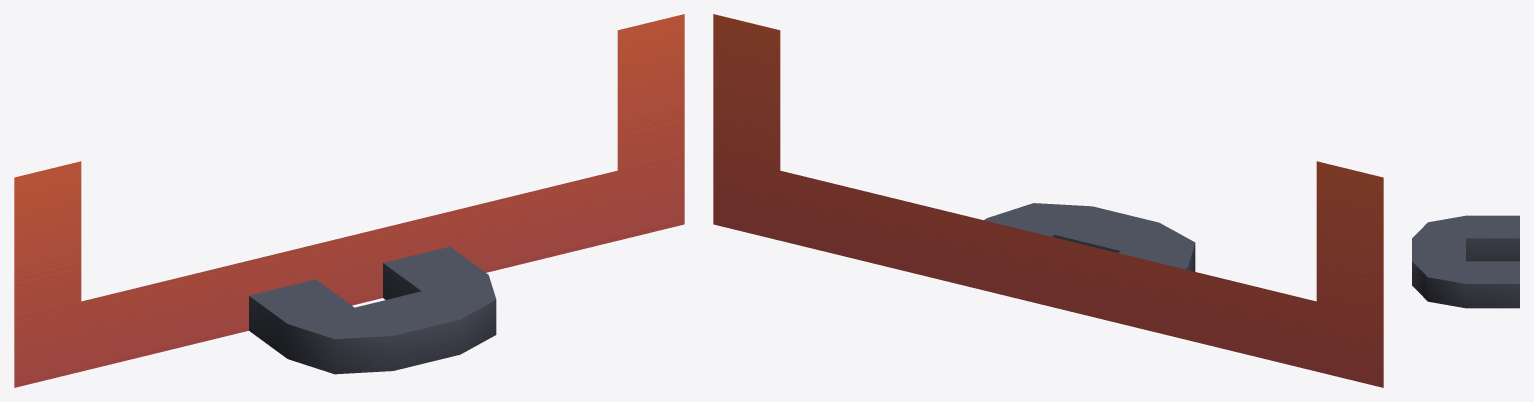
Rendered from track-striped-narrow-cap-back.glb.
3 renders of one model, left to right at view 1: azimuth 30°, elevation 25°; view 2: azimuth 150°, elevation 25°; view 3: azimuth 270°, elevation 25°, orthographic. The views are drawn at different scales.
Parts seen in each view (by area): view 1: track-striped-narrow-cap-back; view 2: track-striped-narrow-cap-back; view 3: track-striped-narrow-cap-back.
Boxes of the visible parts, <box> form: track-striped-narrow-cap-back: <box>14,14,684,387</box>; track-striped-narrow-cap-back: <box>713,14,1383,387</box>; track-striped-narrow-cap-back: <box>1412,215,1519,308</box>.
Size of the model in its own units: 3 by 0.9 by 0.6.
1 material, 1 textured.
